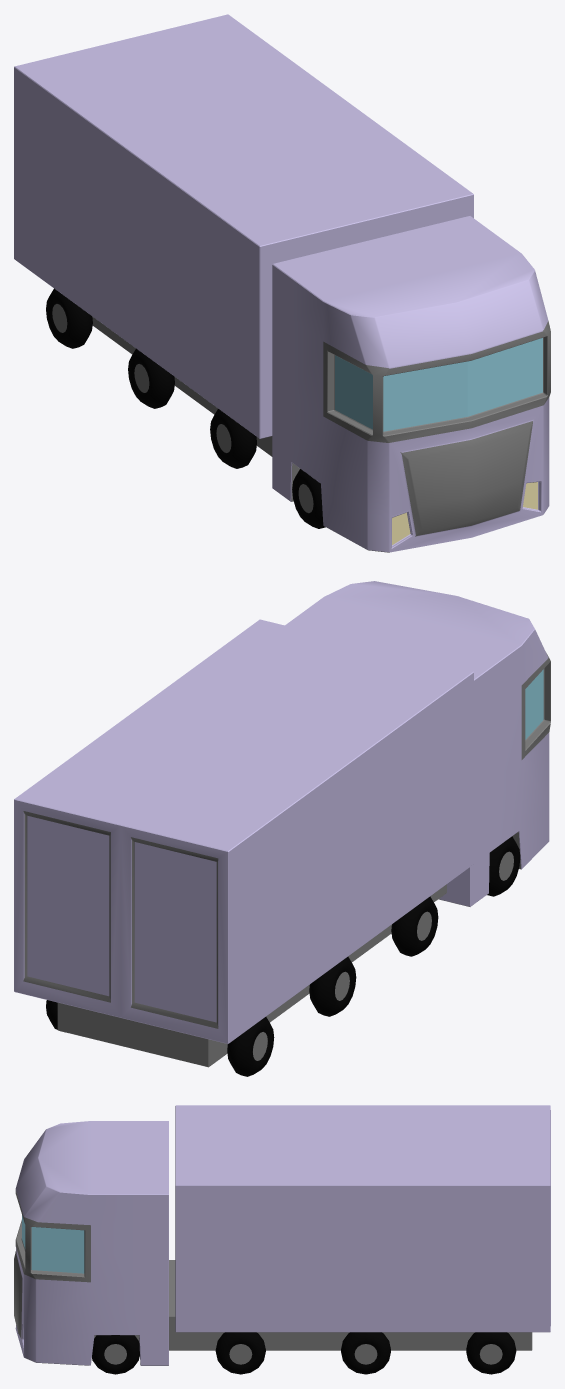
The model's file is Truck.glb.
3 renders of one model, top to bottom at view 1: azimuth 30°, elevation 25°; view 2: azimuth 150°, elevation 25°; view 3: azimuth 270°, elevation 25°, orthographic. The views are drawn at different scales.
Parts seen in each view (by area): view 1: Truck; view 2: Truck; view 3: Truck.
Part boxes in pixels (x1,y1,x2,y2): Truck: [14, 14, 550, 552]; Truck: [14, 581, 550, 1076]; Truck: [14, 1105, 550, 1374].
Bounding box in the file's own units: 3.41 × 3.86 × 9.67.
1 material, 1 textured.
